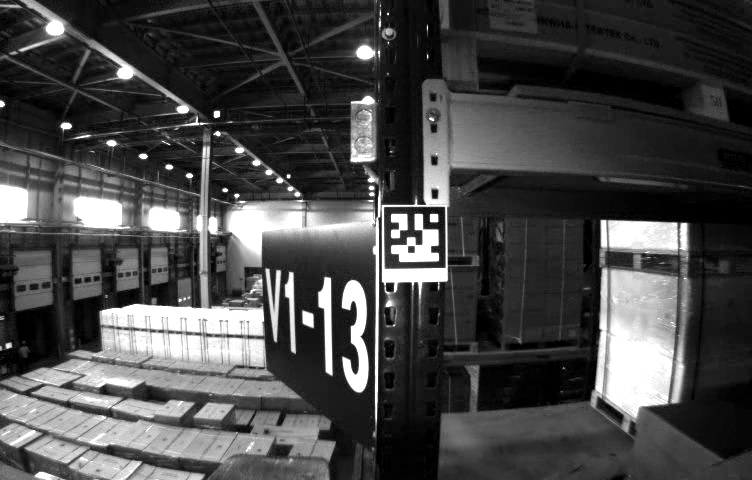True Barcode: (488, 1, 538, 31)
